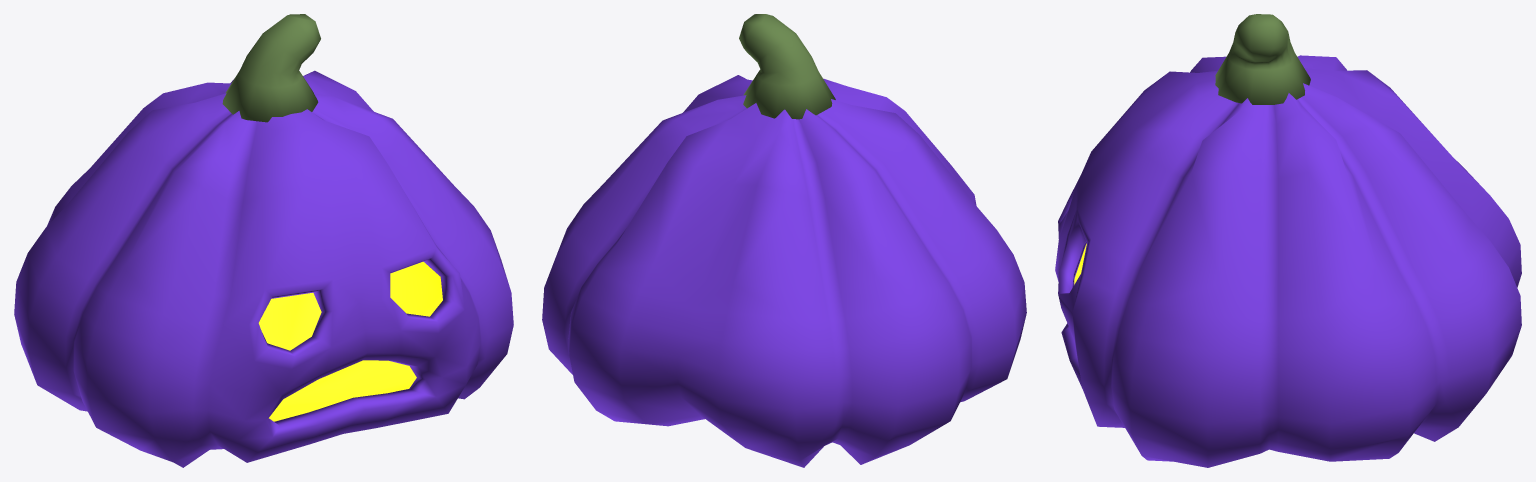
Rendered from pumpkin_3 (1).fbx.
3 renders of one model, left to right at view 1: azimuth 30°, elevation 25°; view 2: azimuth 150°, elevation 25°; view 3: azimuth 270°, elevation 25°, orthographic. The views are drawn at different scales.
Parts seen in each view (by area): view 1: pumpkin_2.001; view 2: pumpkin_2.001; view 3: pumpkin_2.001.
Boxes of the visible parts, x1=… form: pumpkin_2.001: x1=14, y1=14, x2=513, y2=467; pumpkin_2.001: x1=542, y1=14, x2=1026, y2=467; pumpkin_2.001: x1=1055, y1=14, x2=1521, y2=467.
Bounding box in the file's own units: 132 × 119 × 123.
